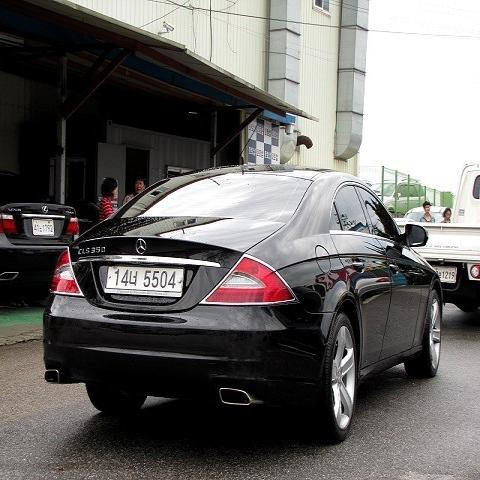LP: (100, 255, 185, 302)
